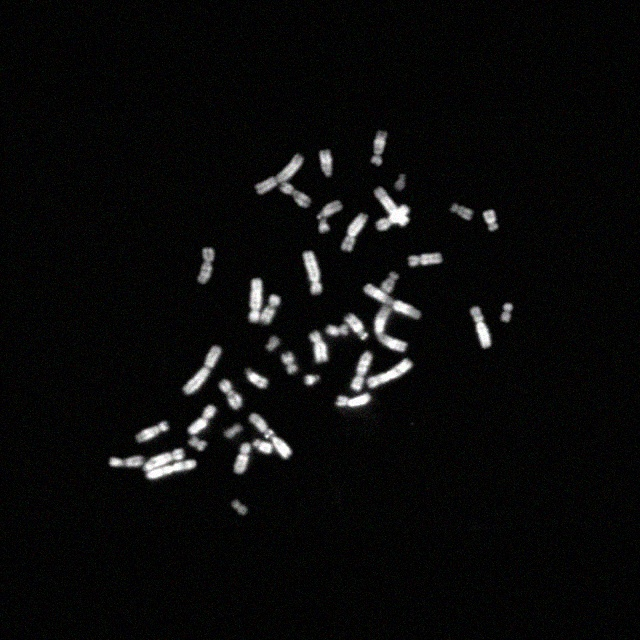chromosome: (248, 412, 292, 460), (364, 284, 422, 318), (256, 153, 304, 193), (183, 346, 221, 396), (374, 304, 408, 352), (374, 187, 410, 227), (367, 358, 413, 388), (147, 459, 198, 479), (342, 213, 368, 251), (143, 448, 184, 472), (302, 250, 322, 296), (471, 307, 493, 348), (188, 404, 217, 434), (376, 204, 409, 230), (351, 351, 372, 391), (279, 184, 311, 208), (135, 420, 169, 442), (218, 380, 242, 410), (344, 314, 368, 341), (248, 278, 262, 322), (198, 248, 215, 284), (308, 332, 328, 362), (371, 130, 387, 166), (262, 295, 280, 323), (408, 252, 444, 266), (234, 443, 250, 473), (245, 368, 269, 388), (316, 200, 342, 218), (336, 394, 372, 406), (109, 455, 144, 467), (450, 202, 472, 220), (321, 149, 334, 177), (282, 351, 298, 373), (382, 272, 398, 292), (253, 438, 272, 454), (224, 422, 242, 438), (484, 210, 498, 230), (326, 324, 348, 336), (188, 436, 206, 450), (232, 500, 246, 516), (304, 374, 320, 386), (502, 304, 512, 322), (267, 336, 279, 350), (395, 174, 405, 190), (319, 219, 329, 233)
